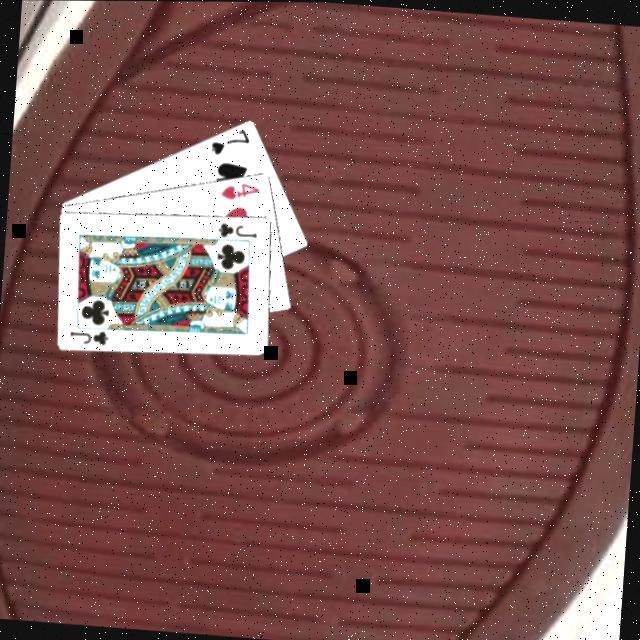4H: (216, 175, 262, 202)
7S: (207, 121, 253, 158)
JC: (214, 217, 260, 240), (65, 324, 111, 347)
